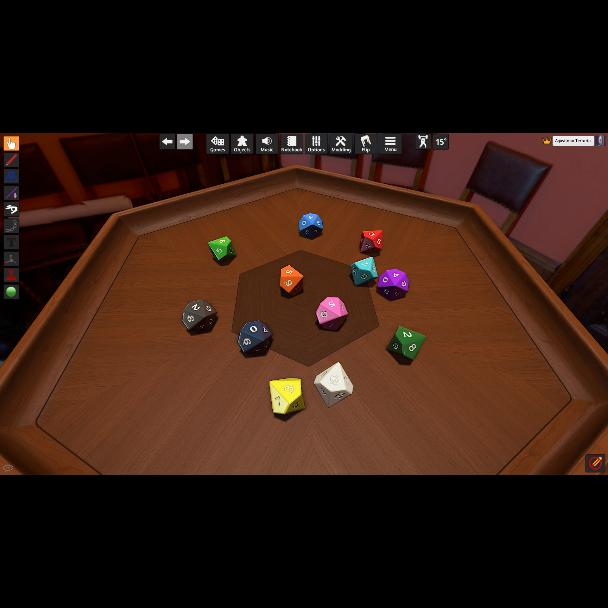d10: (314, 362, 352, 406), (386, 325, 423, 359), (268, 378, 302, 414), (182, 299, 216, 333), (238, 321, 272, 355), (378, 268, 410, 300), (315, 298, 345, 330), (280, 264, 304, 296), (351, 257, 378, 285), (208, 236, 235, 262), (301, 214, 324, 240), (360, 229, 382, 253)
